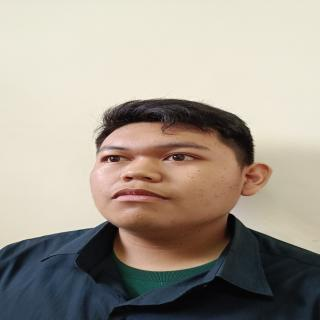Marah: (84, 118, 244, 236)
